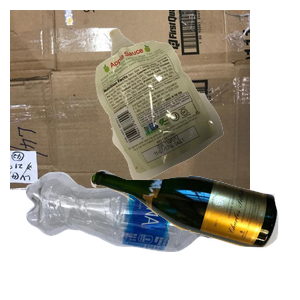cardboard: (10, 10, 250, 190)
glass: (88, 167, 300, 300)
plastic: (23, 169, 243, 300)
trash: (93, 26, 300, 200)
